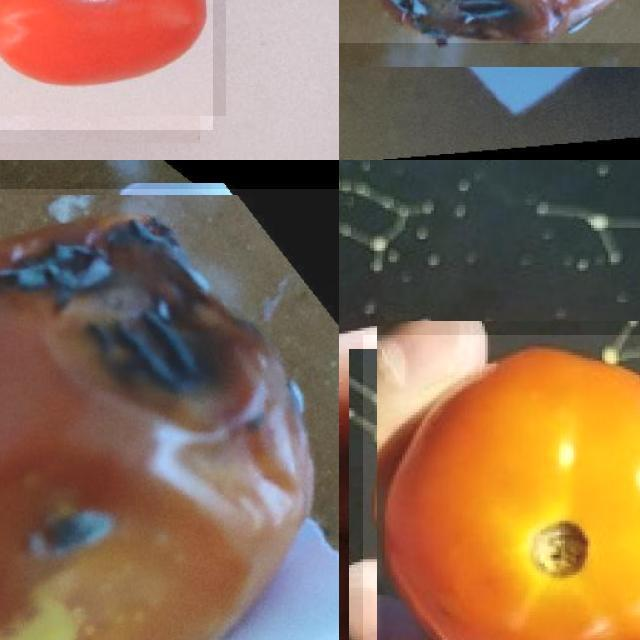Fresh Tomato: (362, 335, 640, 640), (0, 0, 213, 129)
Rotten Tomato: (0, 189, 339, 640), (339, 0, 640, 42)
